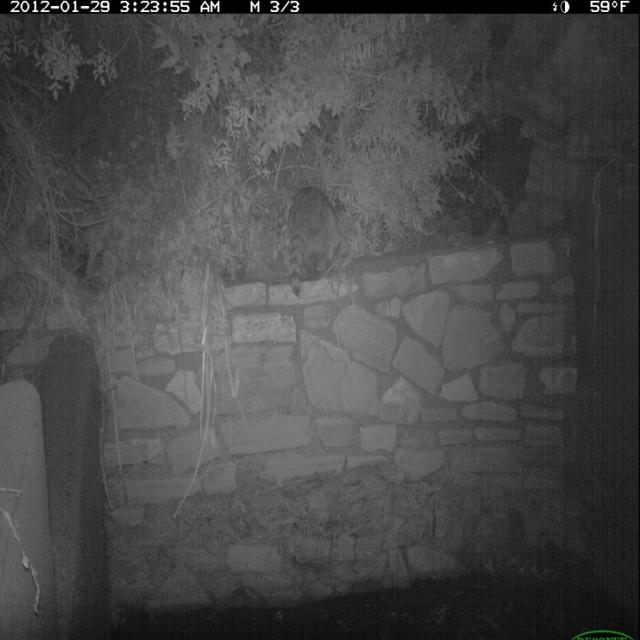raccoon: (280, 181, 349, 305)
